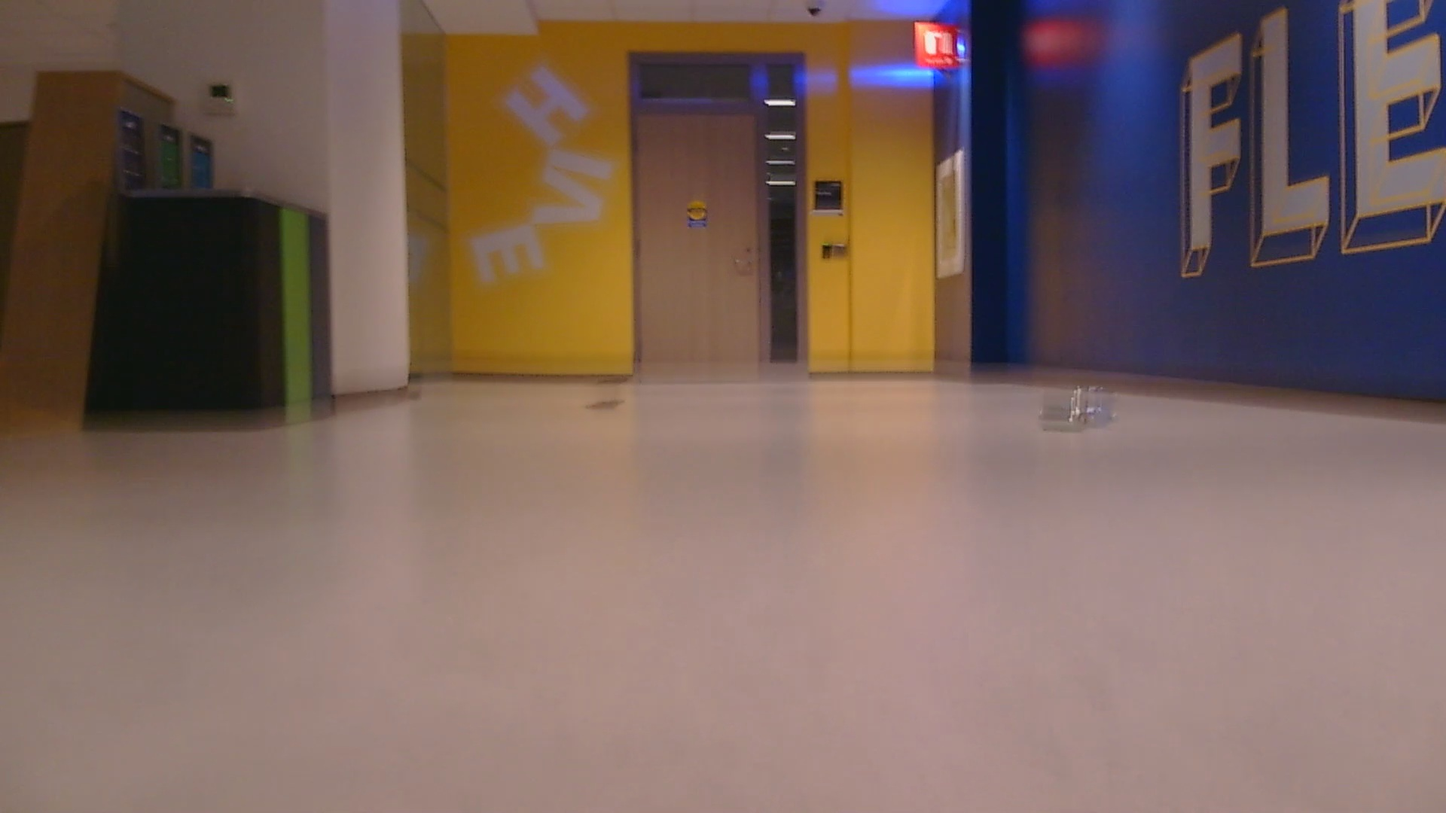can: (1039, 387, 1116, 433), (582, 395, 636, 413)
